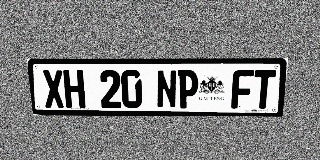0: (121, 70, 142, 108)
2: (99, 70, 121, 108)
F: (231, 70, 254, 109)
H: (63, 70, 86, 108)
N: (156, 70, 177, 108)
P: (177, 70, 199, 108)
T: (252, 70, 276, 109)
X: (42, 70, 65, 108)
